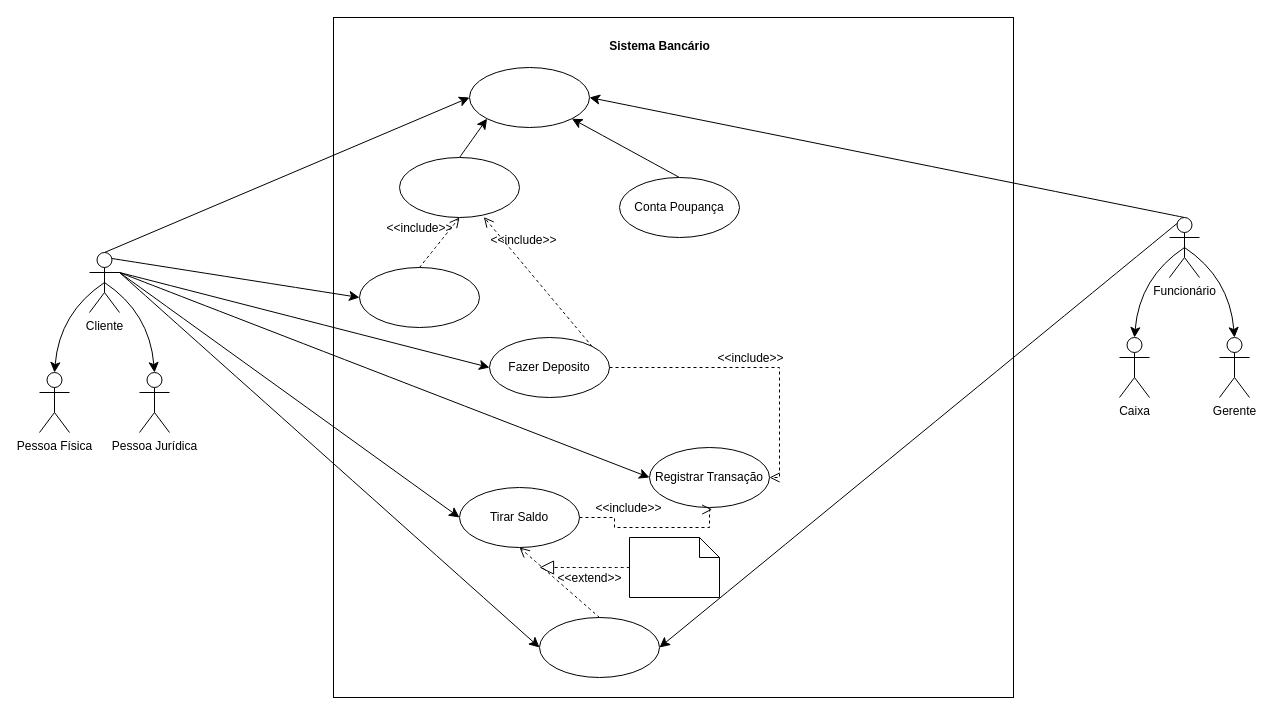
This 1273x715 diagram has some shape labels left out. The shapes that lost their labels are listed below. From the top down, each one's box as (x1, y1, x2, y2) in pixels, then its label:
(468, 66, 590, 128): Abrir Conta
(398, 156, 520, 218): Conta Corrente
(358, 266, 480, 328): Realizar Saque
(628, 536, 720, 598): Caso tiver saldo
(538, 616, 660, 678): Encerrar Conta
